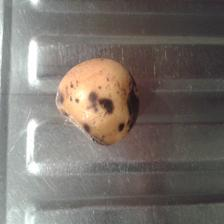Mango Semirotten: (54, 56, 143, 145)
